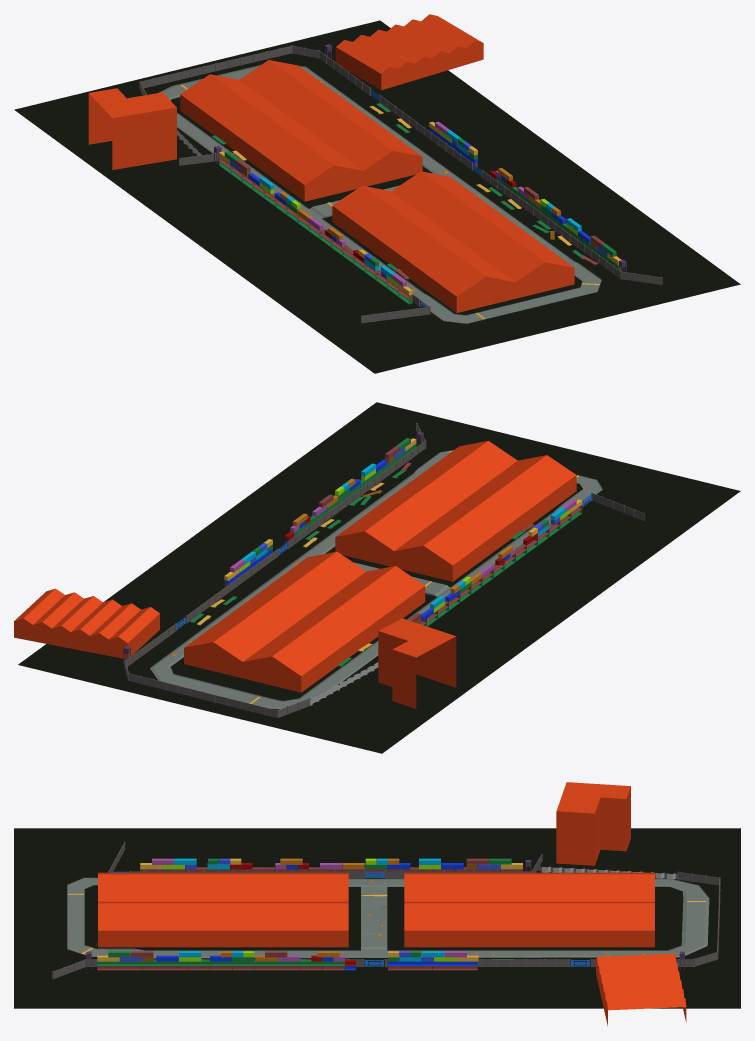
The model's file is Prototype Level.fbx.
The picture shows the model from 3 angles, top to bottom: view 1: azimuth 30°, elevation 25°; view 2: azimuth 150°, elevation 25°; view 3: azimuth 270°, elevation 25°; orthographic projection.
Visible parts, largest first — view 1: area.001, Godown_1, Godown_2, Godown_2.001, Road, UnderConstructionBuilding, Wall_Backup.003, Container_40FT.002, Container_40FT.001, Wall_Backup.002, Wall_Backup.001, Container_40FT.022 (+1 smaller); view 2: area.001, Godown_1, Godown_2, Godown_2.001, Road, UnderConstructionBuilding, Wall_Backup.003, Container_40FT.002, Wall_Backup.002, Container_40FT.001, Wall_Backup.001, Container_40FT.022; view 3: area.001, Godown_1, Godown_2, Road, UnderConstructionBuilding, Godown_2.001, Container_40FT.022, Container_40FT.002, Container_40FT.021, Wall_Backup.002, Wall.001, Tin (+3 smaller).
Part boxes in pixels (x1,y1,x2,y2): area.001: [14, 20, 740, 373]; Godown_1: [332, 171, 574, 312]; Godown_2: [180, 60, 422, 201]; Godown_2.001: [335, 14, 483, 90]; Road: [158, 65, 601, 323]; UnderConstructionBuilding: [88, 88, 176, 169]; Wall_Backup.003: [482, 170, 621, 279]; Container_40FT.002: [219, 157, 412, 299]; Container_40FT.001: [219, 161, 412, 304]; Wall_Backup.002: [379, 95, 472, 170]; Wall_Backup.001: [202, 45, 292, 74]; Container_40FT.022: [495, 176, 621, 269]; area.001: [18, 402, 740, 753]; Godown_1: [335, 441, 576, 581]; Godown_2: [184, 551, 425, 692]; Godown_2.001: [14, 588, 159, 658]; Road: [150, 450, 602, 709]; UnderConstructionBuilding: [378, 618, 456, 708]; Wall_Backup.003: [287, 440, 426, 549]; Container_40FT.002: [420, 505, 582, 625]; Wall_Backup.002: [185, 549, 278, 623]; Container_40FT.001: [424, 509, 582, 626]; Wall_Backup.001: [127, 672, 215, 702]; Container_40FT.022: [294, 444, 416, 536]; area.001: [14, 828, 740, 1008]; Godown_1: [98, 872, 348, 947]; Godown_2: [404, 872, 654, 947]; Road: [67, 877, 709, 958]; UnderConstructionBuilding: [556, 782, 630, 865]; Godown_2.001: [596, 953, 686, 1025]; Container_40FT.022: [97, 960, 344, 965]; Container_40FT.002: [140, 867, 522, 873]; Container_40FT.021: [97, 966, 344, 970]; Wall_Backup.002: [384, 959, 570, 967]; Wall.001: [129, 870, 365, 878]; Tin: [537, 865, 677, 879].
Size of the model in its own units: 25664 by 3232 by 39738.
